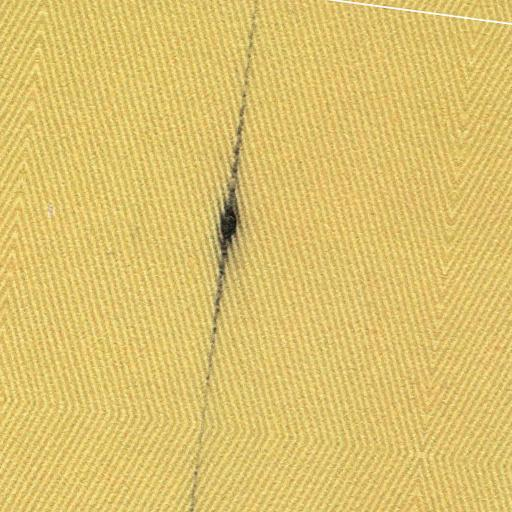stain: (175, 0, 270, 512)
